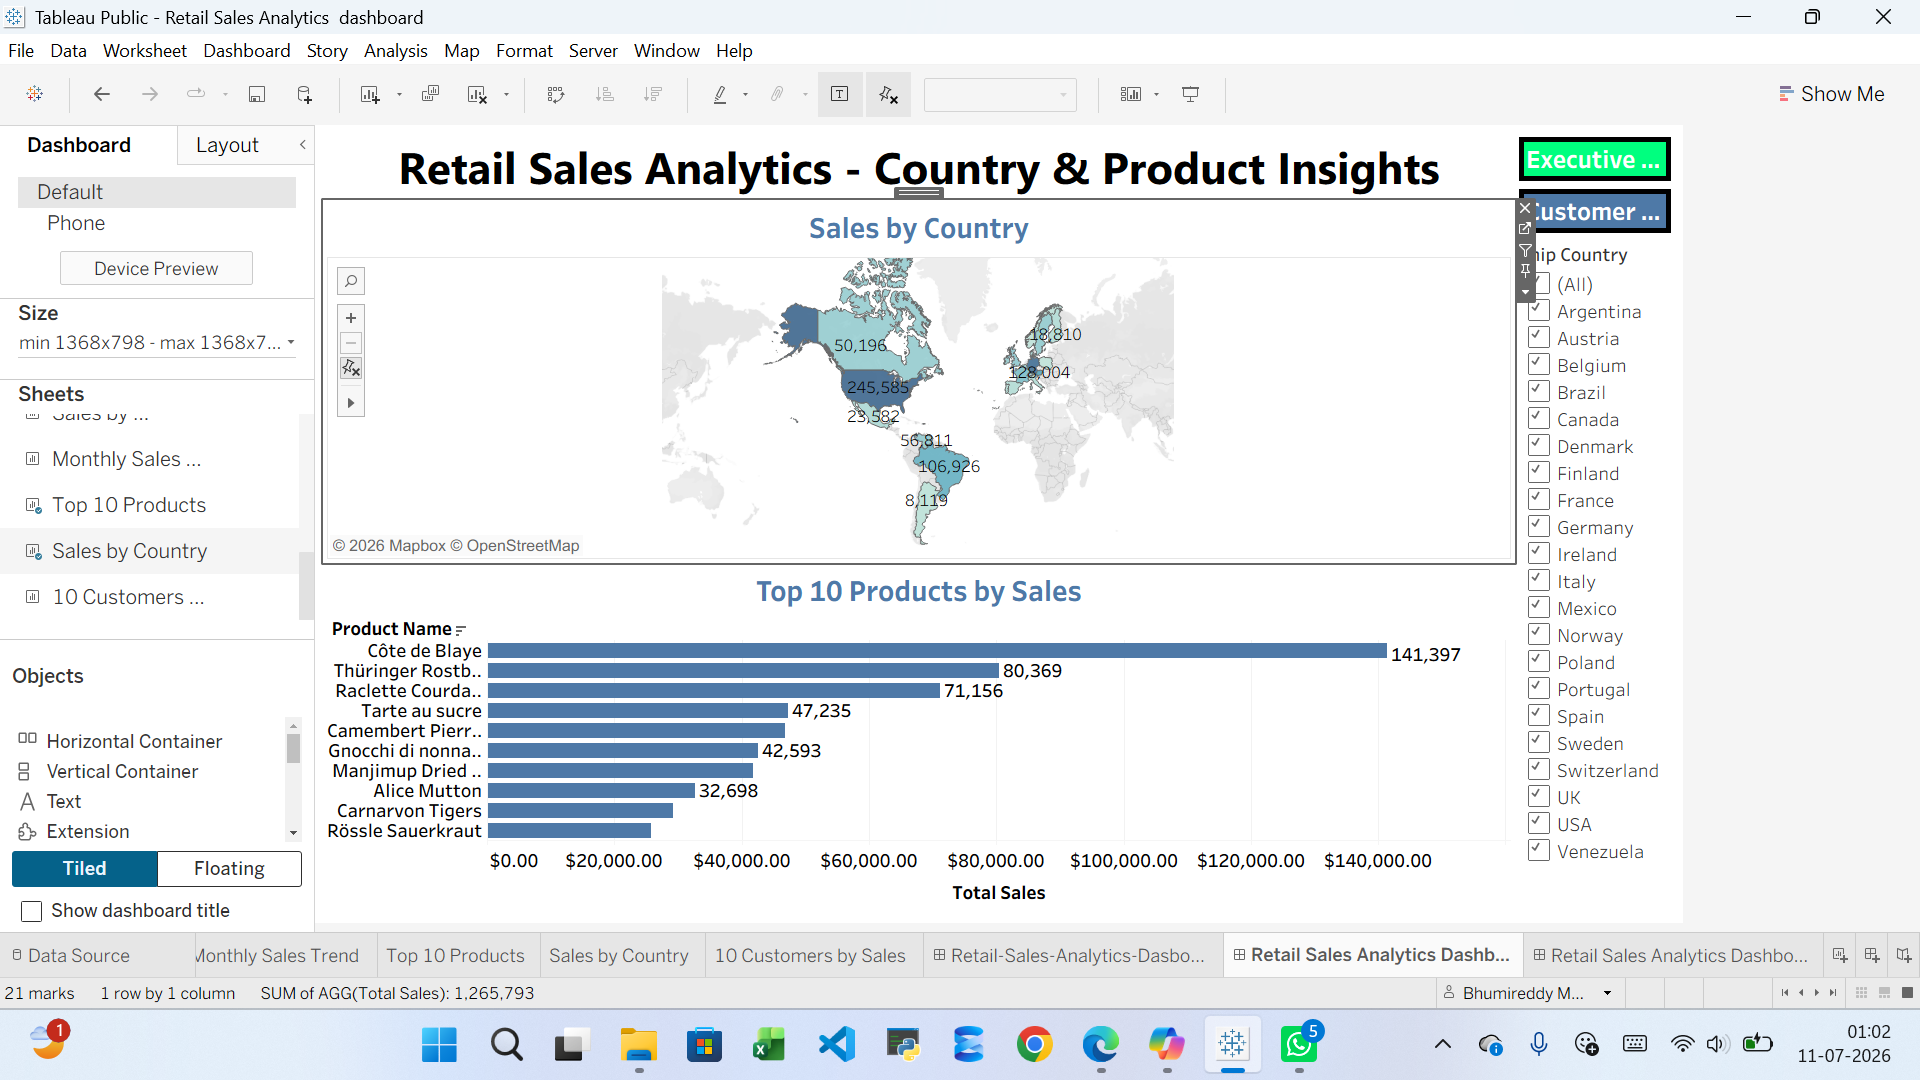

The page's visual inventory and layout, read from the dashboard file:
{"tool":"tableau","page":{"name":"Retail Sales Analytics Dashboard - Customer Insights","canvas":[1368,798],"ordinal":0},"visuals":[{"type":"text","box":[8,8,1192,67]},{"type":"dashboard-object","box":[1200,8,160,52]},{"type":"dashboard-object","box":[1200,60,160,52]},{"type":"worksheet","title":"Sales by Country","mark":"Automatic","box":[8,75,1192,363]},{"type":"filter","title":"Sales by Country","param":"[odata.06dvpco1srk3af146tckr10jipwa].[none:ShipCountry:nk]","box":[1200,112,160,634]},{"type":"worksheet","title":"Top 10 Products","mark":"Automatic","rows":["ProductName"],"cols":["Calculation_2653142644731904"],"box":[8,438,1192,352]}]}

Visuals, with their boxes on the page's 1368x798 design canvas (x1, y1, x2, y2). These are canvas units, not pixel positions in the 1920x1080 screenshot, which may show the page scaled, cropped or inside an application window:
text: [8, 8, 1200, 75]
dashboard-object: [1200, 8, 1360, 60]
dashboard-object: [1200, 60, 1360, 112]
"Sales by Country" worksheet: [8, 75, 1200, 438]
"Sales by Country" filter: [1200, 112, 1360, 746]
"Top 10 Products" worksheet: [8, 438, 1200, 790]
